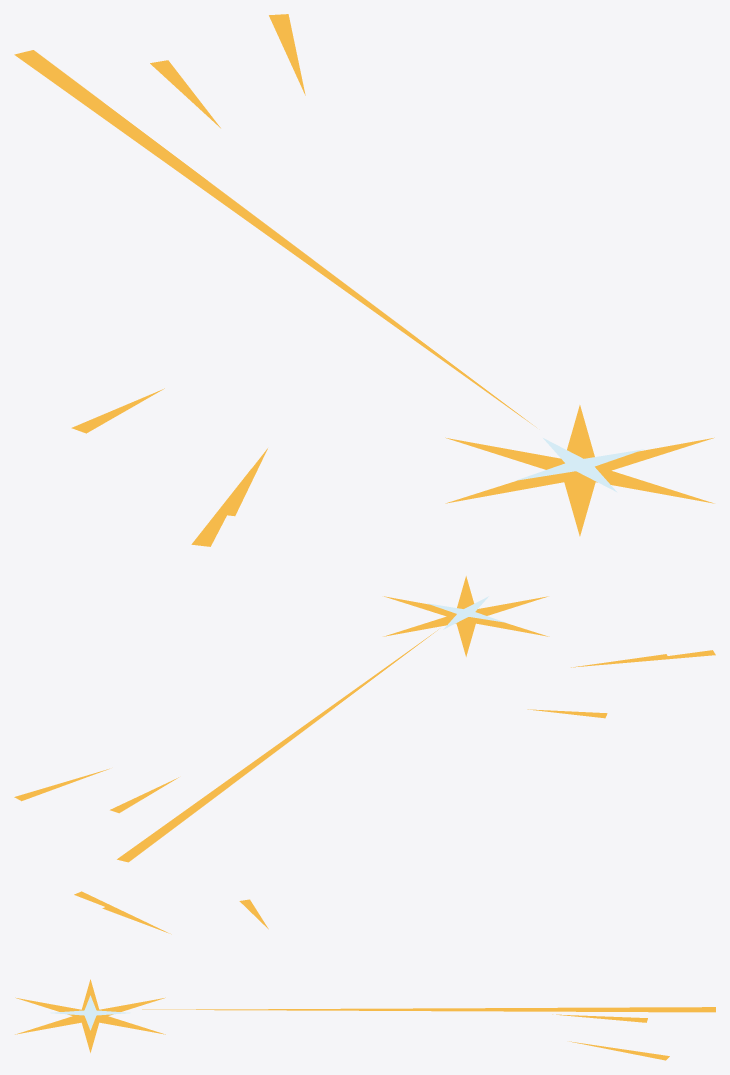
Rendered from SoulRifle_Fire.glb.
3 views of the same model, one above another, from view 1: azimuth 30°, elevation 25°; view 2: azimuth 150°, elevation 25°; view 3: azimuth 270°, elevation 25° (orthographic). The views are drawn at different scales.
Visible parts, largest first — view 1: SoulRifle_Fire_Muzzle0, SoulRifle_Fire_Tracer0_0, SoulRifle_Fire_HotCore0, SoulRifle_Fire_Spark03; view 2: SoulRifle_Fire_Muzzle0, SoulRifle_Fire_Tracer0_0, SoulRifle_Fire_HotCore0; view 3: SoulRifle_Fire_Tracer0_0, SoulRifle_Fire_Muzzle0, SoulRifle_Fire_HotCore0, SoulRifle_Fire_Spark03, SoulRifle_Fire_Spark00, SoulRifle_Fire_Spark02.
Boxes of the visible parts, box(x1,y1,x2,y2) form: SoulRifle_Fire_Muzzle0: box(445, 405, 714, 536); SoulRifle_Fire_Tracer0_0: box(14, 50, 536, 427); SoulRifle_Fire_HotCore0: box(516, 438, 643, 492); SoulRifle_Fire_Spark03: box(269, 14, 305, 95); SoulRifle_Fire_Muzzle0: box(383, 576, 549, 656); SoulRifle_Fire_Tracer0_0: box(117, 629, 438, 862); SoulRifle_Fire_HotCore0: box(427, 596, 505, 629); SoulRifle_Fire_Tracer0_0: box(142, 1007, 715, 1012); SoulRifle_Fire_Muzzle0: box(15, 979, 165, 1052); SoulRifle_Fire_HotCore0: box(50, 995, 130, 1030); SoulRifle_Fire_Spark03: box(569, 1041, 669, 1060); SoulRifle_Fire_Spark00: box(552, 1014, 647, 1022); SoulRifle_Fire_Spark02: box(74, 891, 150, 924).
Bounding box in the file's own units: 0.00113 × 5e-05 × 0.00199.
